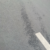others: (30, 26, 50, 50)
